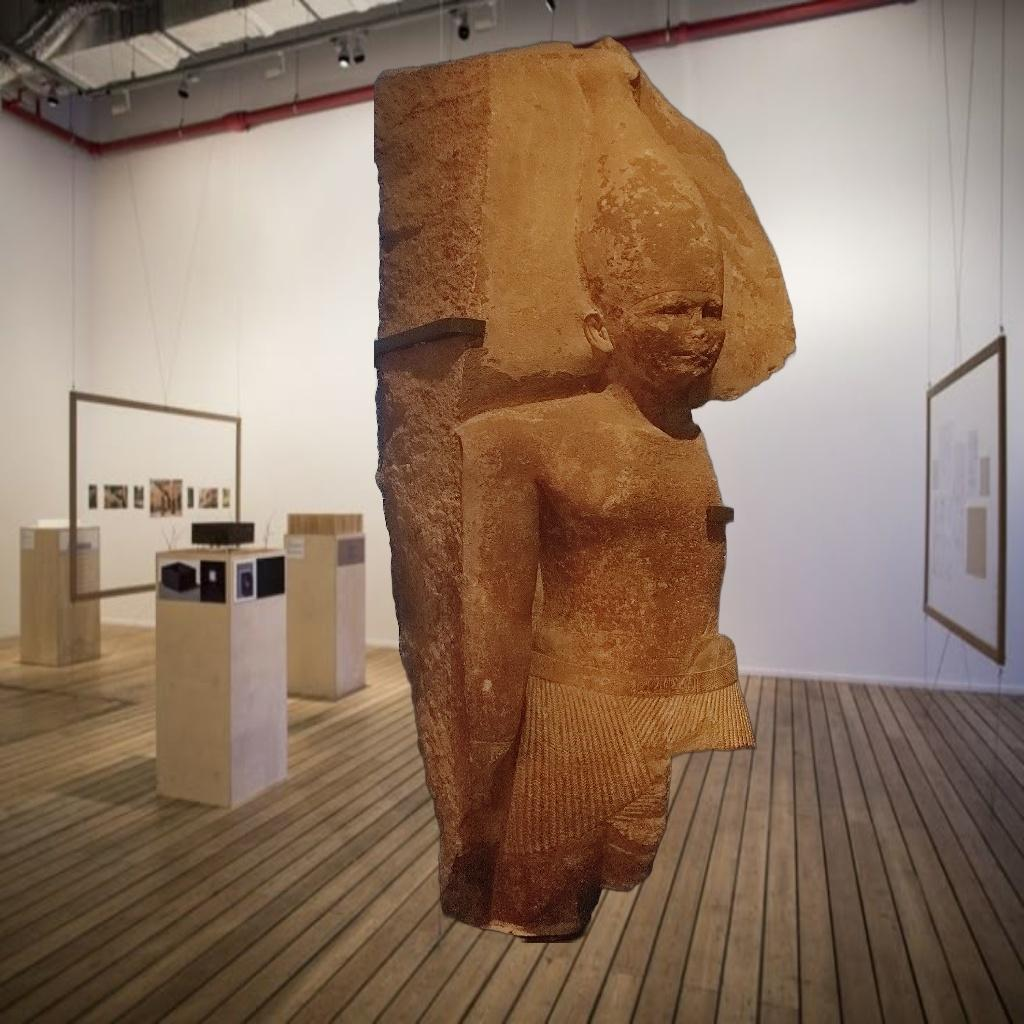Statue of Snefru: (374, 34, 800, 944)
